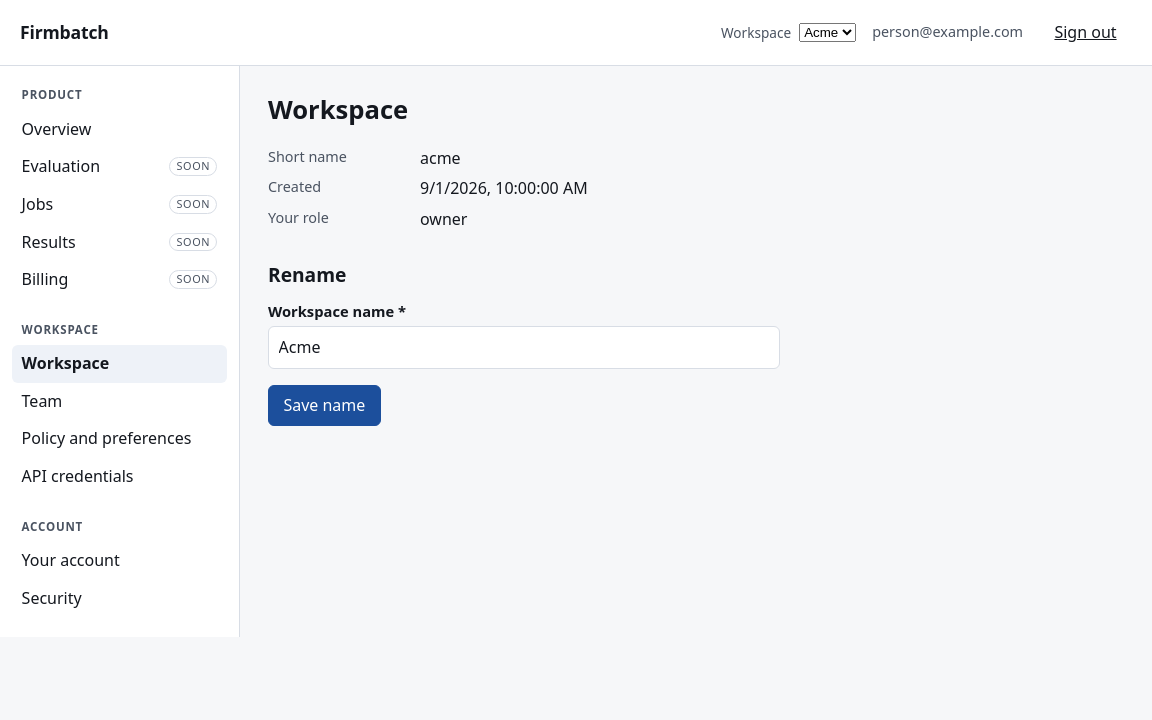
it: announcements › puts a failure in an alert region, so it interrupts
expect the field labelled "Workspace name *" is shown: met, box [268,326,780,369]
Click the button "Save name" at (324, 406), box [268,385,381,426]
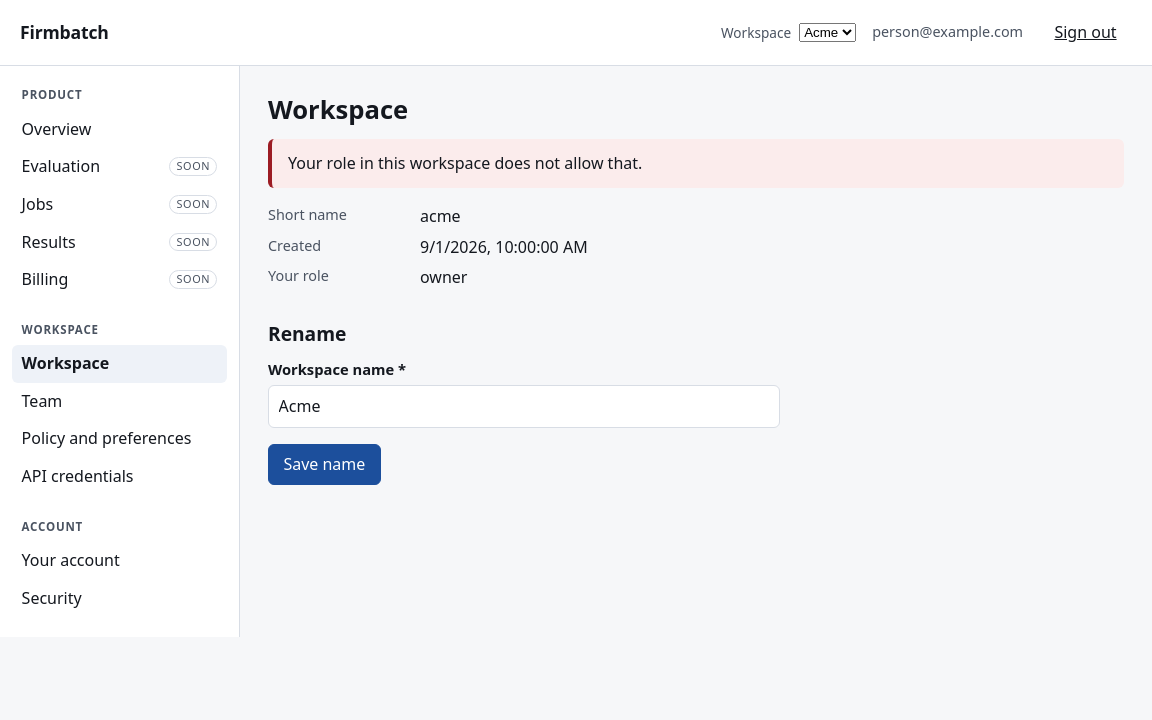
expect the message shows "does not allow that": met, box [288,152,642,174]
